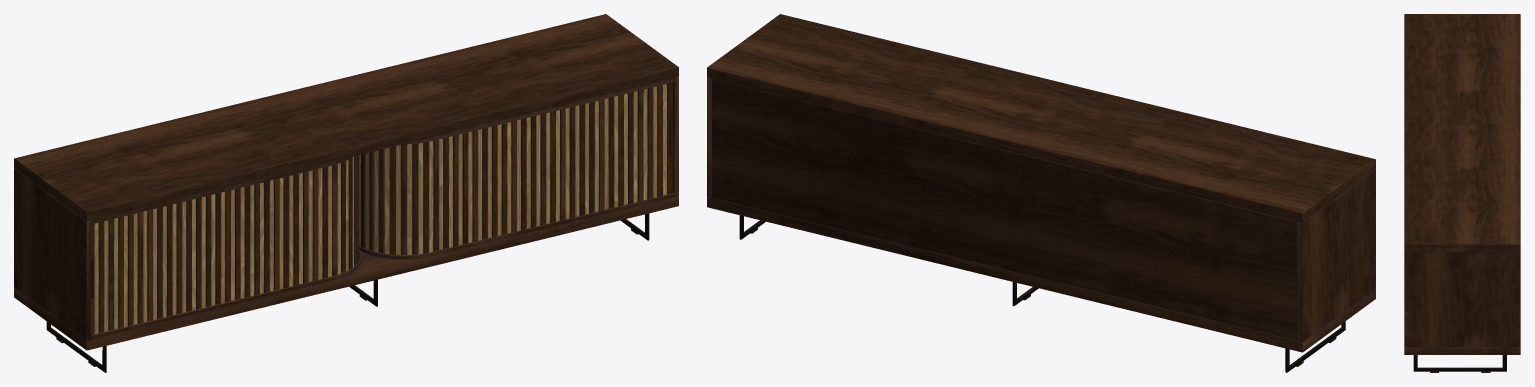
File: modern_wooden_cabinet.glb
The picture shows the model from 3 angles, left to right: view 1: azimuth 30°, elevation 25°; view 2: azimuth 150°, elevation 25°; view 3: azimuth 270°, elevation 25°; orthographic projection. The views are drawn at different scales.
Parts seen in each view (by area): view 1: modern_wooden_cabinet_body, modern_wooden_cabinet_door_r, modern_wooden_cabinet_door_l; view 2: modern_wooden_cabinet_body; view 3: modern_wooden_cabinet_body.
Part boxes in pixels (x1,y1,x2,y2): modern_wooden_cabinet_body: [14, 14, 678, 372]; modern_wooden_cabinet_door_r: [359, 82, 672, 254]; modern_wooden_cabinet_door_l: [91, 155, 358, 334]; modern_wooden_cabinet_body: [707, 14, 1375, 372]; modern_wooden_cabinet_body: [1404, 14, 1520, 372].
Size of the model in its own units: 2.44 by 0.6801 by 0.5201.
1 material, 1 textured.
